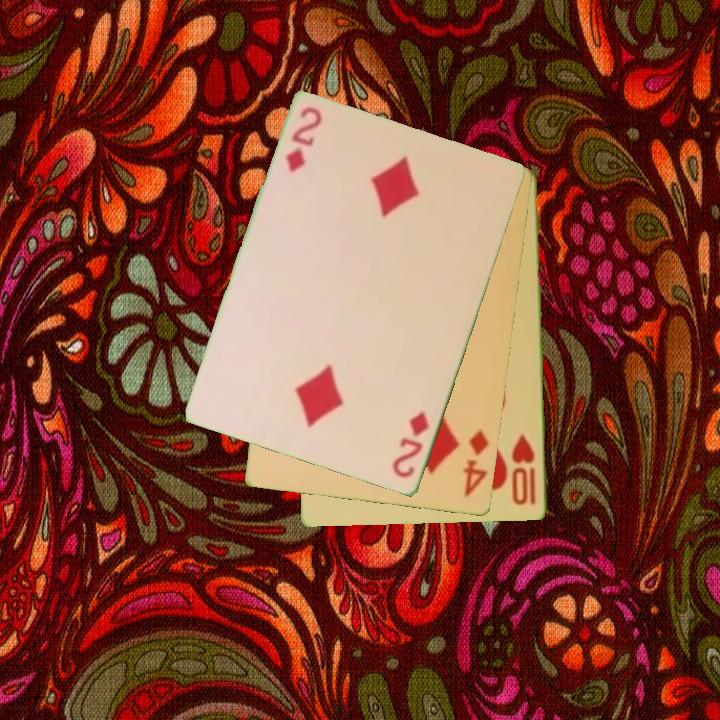10h: (508, 431, 539, 508)
2d: (389, 408, 433, 482), (282, 103, 325, 176)
4d: (460, 426, 492, 501)
